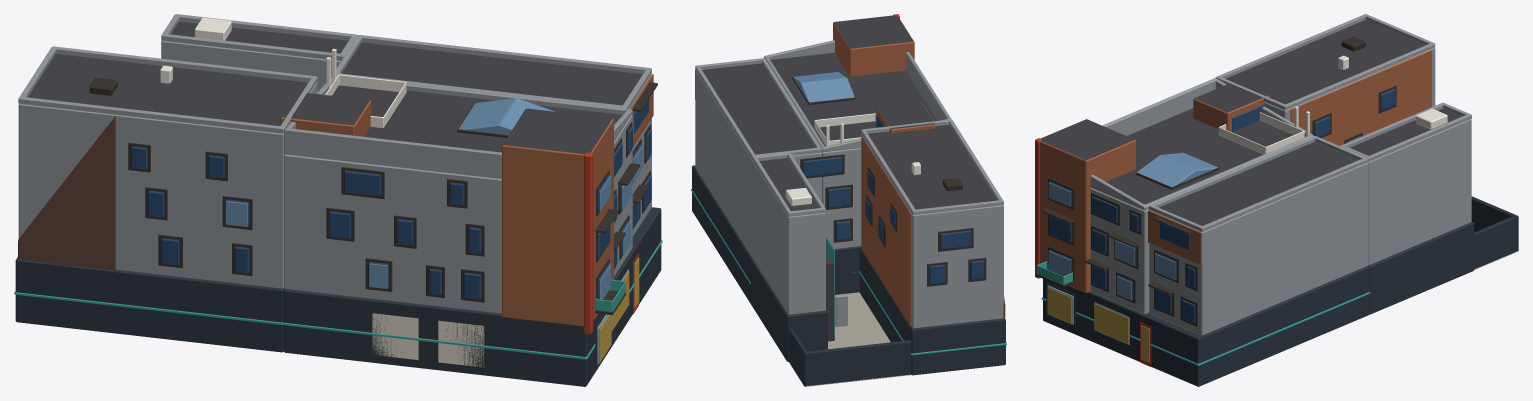
The model's file is 92-south-park.glb.
The picture shows the model from 3 angles, left to right: view 1: azimuth 30°, elevation 25°; view 2: azimuth 150°, elevation 25°; view 3: azimuth 270°, elevation 25°; orthographic projection. The views are drawn at different scales.
Visible parts, largest first — view 1: B_body, A1_body, tower_body, plinth_front, plinth_rear, A2_body, B_shingle, A1_parapet, C_body, B_parapet, A2_parapet, A1_cube (+12 smaller); view 2: B_body, A2_body, C_body, A1_body, plinth_rear, B_courtface, tower_body, plinth_front, court_wall_rear, plinth_arm, A1_parapet, court_floor (+17 smaller); view 3: A2_body, plinth_front, C_body, A1_body, tower_body, B_body, B_courtface, plinth_arm, A1_parapet, A2_parapet, B_parapet, A1_cube (+17 smaller).
Boxes of the visible parts, <box> form: B_body: <box>18,54,317,288</box>; A1_body: <box>284,85,632,313</box>; tower_body: <box>502,108,613,326</box>; plinth_front: <box>283,207,661,386</box>; plinth_rear: <box>15,257,284,352</box>; A2_body: <box>341,42,651,236</box>; B_shingle: <box>18,116,115,270</box>; A1_parapet: <box>284,76,632,178</box>; C_body: <box>161,21,348,91</box>; B_parapet: <box>18,46,317,133</box>; A2_parapet: <box>336,35,651,108</box>; A1_cube: <box>280,92,371,136</box>; B_body: <box>861,125,1003,328</box>; A2_body: <box>695,63,821,257</box>; C_body: <box>752,158,825,314</box>; A1_body: <box>770,53,937,249</box>; plinth_rear: <box>859,247,1005,375</box>; B_courtface: <box>861,136,911,326</box>; tower_body: <box>833,15,914,76</box>; plinth_front: <box>692,165,861,303</box>; court_wall_rear: <box>803,340,911,386</box>; plinth_arm: <box>751,259,827,361</box>; A1_parapet: <box>764,40,951,151</box>; court_floor: <box>789,292,911,386</box>; A2_body: <box>1149,142,1367,335</box>; plinth_front: <box>1043,266,1369,386</box>; C_body: <box>1350,108,1471,265</box>; A1_body: <box>1090,108,1293,314</box>; tower_body: <box>1040,119,1135,293</box>; B_body: <box>1226,20,1435,121</box>; B_courtface: <box>1290,50,1431,145</box>; plinth_arm: <box>1367,222,1474,314</box>; A1_parapet: <box>1090,78,1313,210</box>; A2_parapet: <box>1149,136,1368,231</box>; B_parapet: <box>1215,14,1435,110</box>; A1_cube: <box>1193,81,1269,131</box>.
Bounding box in the file's own units: 31.86 × 13.28 × 32.05.
